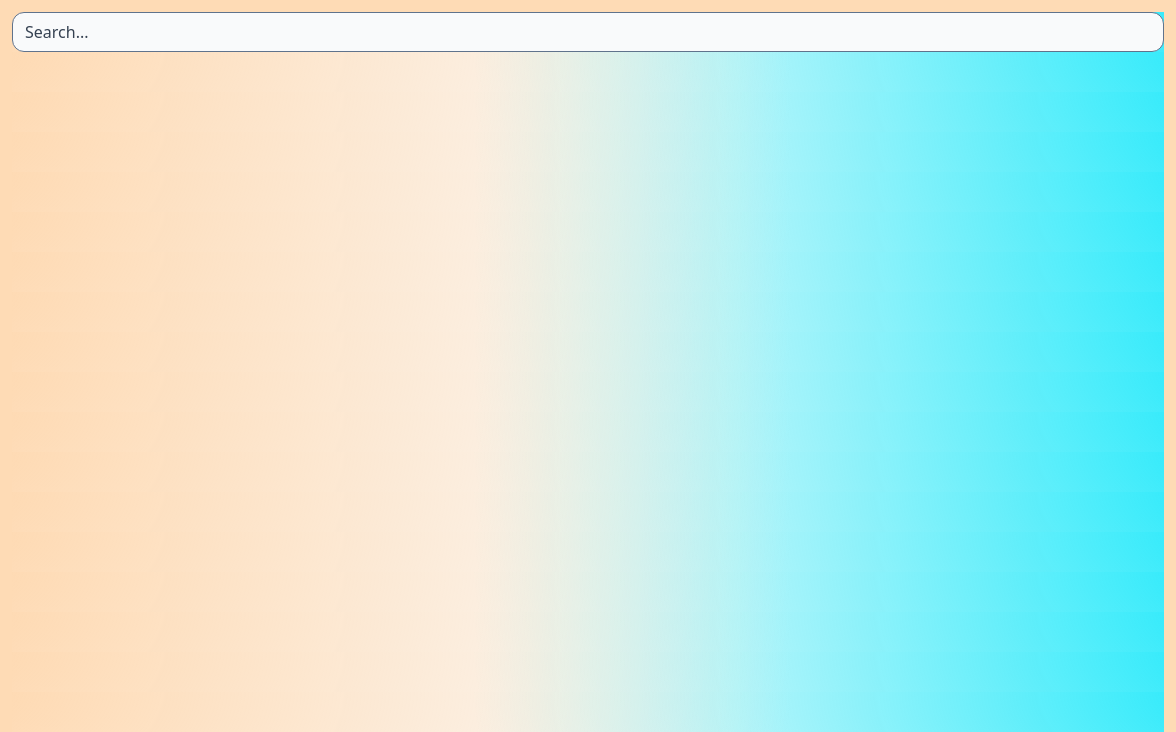
it: Combobox a11y › has no violations with the list open (D12)
The width and height of the screenshot is (1176, 732).
Click the dropdown named "Country" at (588, 32), box x1=12 y1=12 x2=1164 y2=52
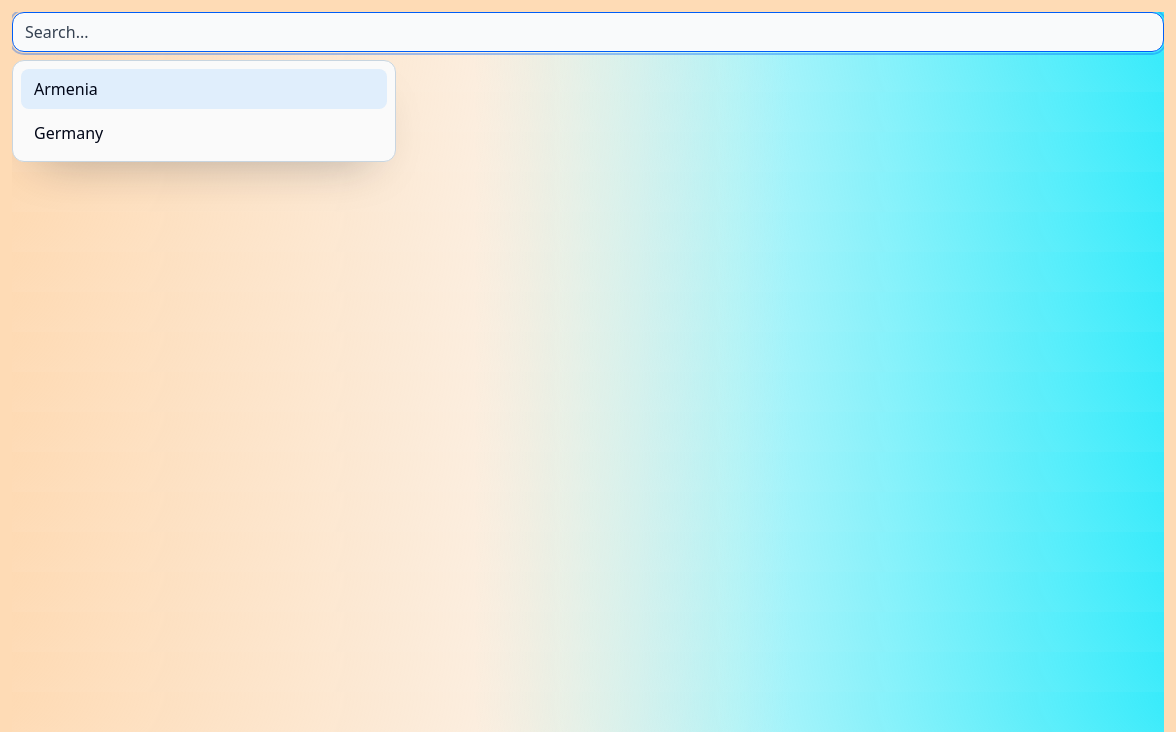
Check: the list is shown, box x1=21 y1=69 x2=387 y2=153
